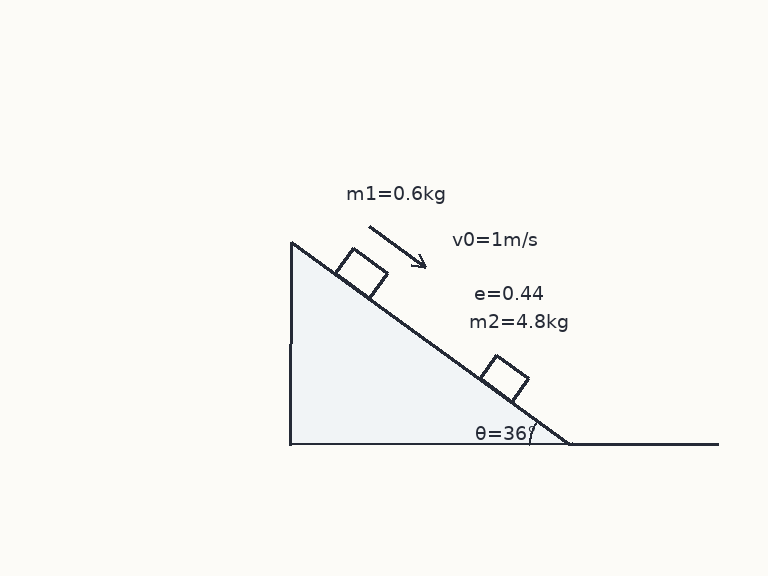block: (333, 246, 389, 300), (478, 353, 531, 404)
ramp: (289, 239, 572, 446)
